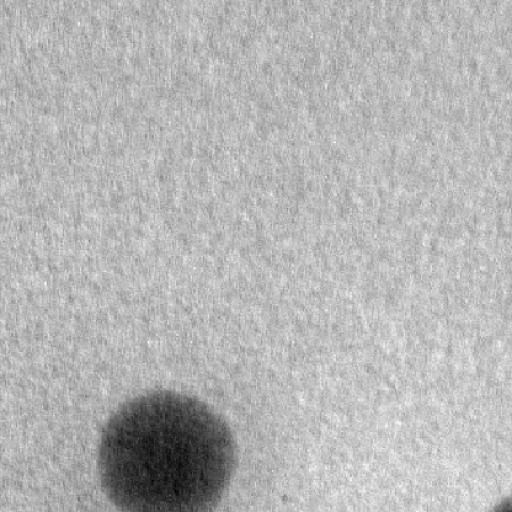Nanoparticles: (98, 388, 237, 512), (492, 495, 512, 512)
